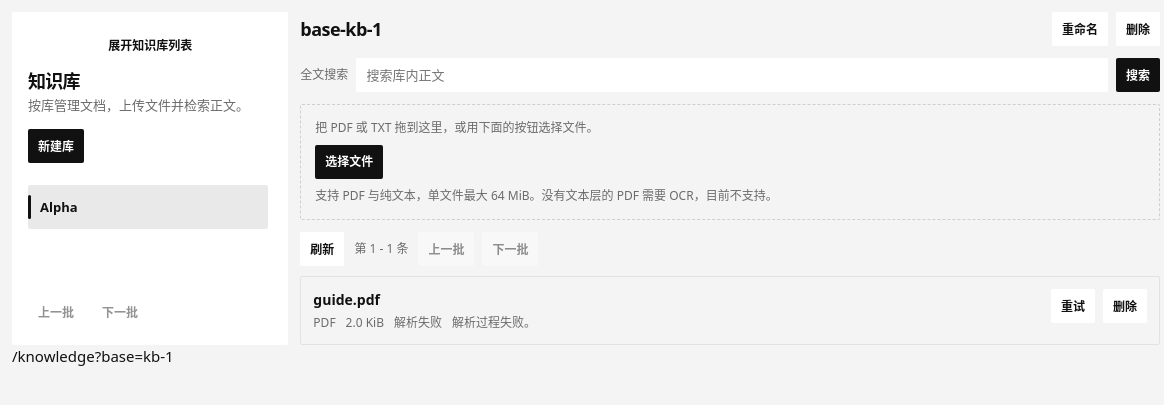
it: KnowledgePage › asks for the source file again when a retry returns pending_upload
The image size is (1164, 405).
Check: the text "guide.pdf" is shown, box x1=313 y1=290 x2=380 y2=309
Click the button "重试".
click(1073, 306)  # box x1=1051 y1=289 x2=1095 y2=323
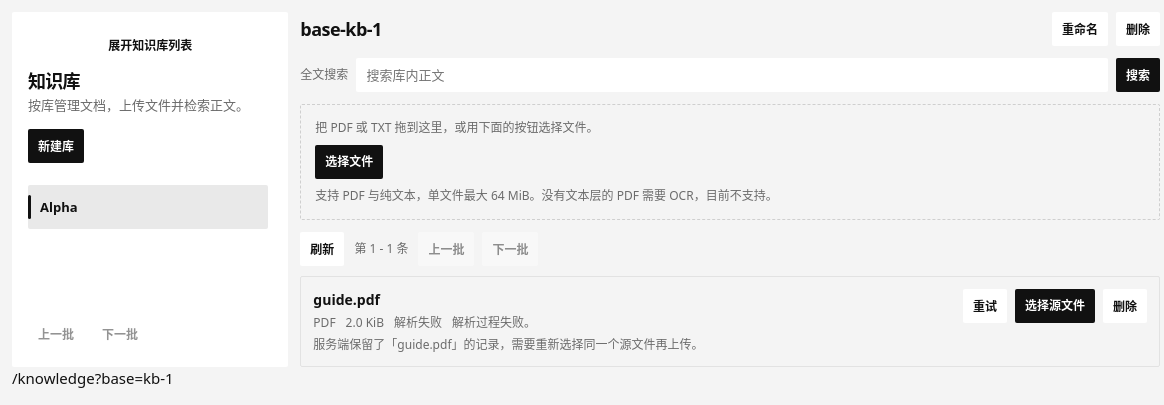
Check: the file field "选择源文件" is shown, box x1=1015 y1=289 x2=1095 y2=323
